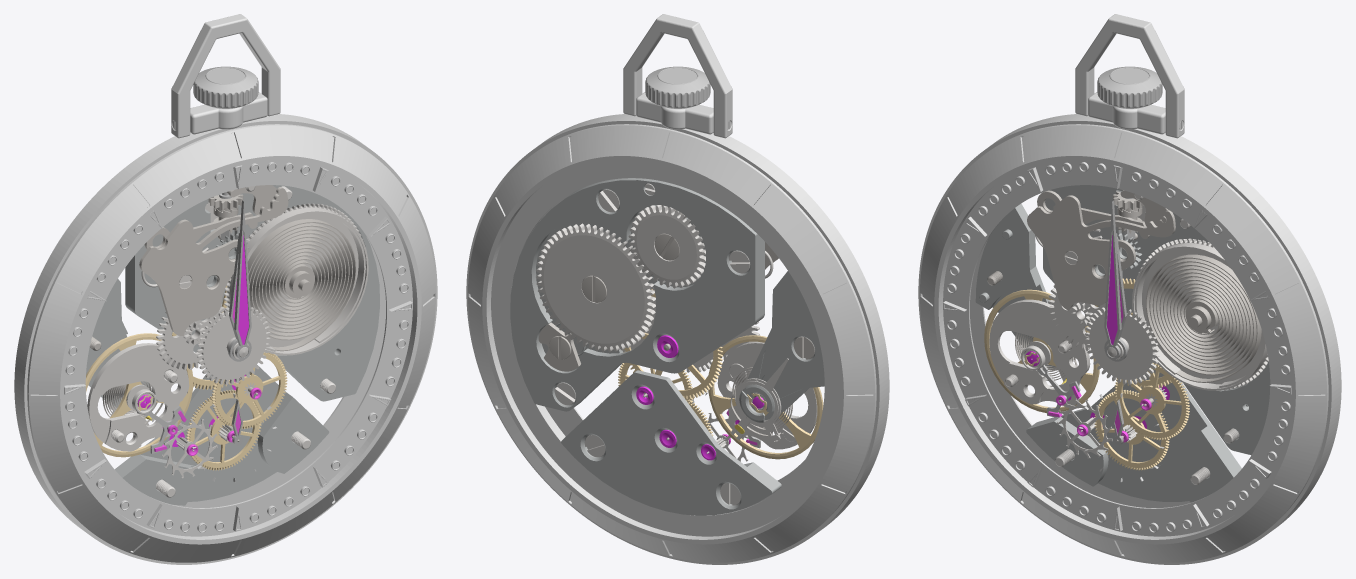
Rendered from ETA6497-1.glb.
3 views of the same model, side by side, from view 1: azimuth 30°, elevation 25°; view 2: azimuth 150°, elevation 25°; view 3: azimuth 330°, elevation 25° (orthographic).
Visible parts, largest first — view 1: CaseTopBody, CaseWatchFace, TrainWheelBridge, BarrelBridgeBody, BarrelMainSpringBody, CaseCenterRingBody, SettingLeverJumperBody, PalletBridgeBody, BarrelDrum_Gear_Body, CaseCrownClipRing, CaseWatchRearFace, HourWheel_Body (+15 smaller); view 2: CaseBottomBody, BarrelBridgeBody, CaseWatchRearFace, TrainWheelBridge, RatchetWheelBody, CaseCenterRingBody, BalancingBridge, CaseCrownClipRing, CrownWheelBody, PalletBridgeBody, WindingKnob, BalanceWheelBody (+8 smaller); view 3: CaseTopBody, CaseWatchFace, TrainWheelBridge, BarrelMainSpringBody, CaseCenterRingBody, BarrelBridgeBody, SettingLeverJumperBody, BarrelDrum_Gear_Body, PalletBridgeBody, BalancingBridge, CaseCrownClipRing, CaseWatchRearFace (+14 smaller).
Boxes of the visible parts, <box> form: CaseTopBody: <box>27,124,435,562</box>; CaseWatchFace: <box>64,160,412,536</box>; TrainWheelBridge: <box>115,365,329,505</box>; BarrelBridgeBody: <box>125,185,379,401</box>; BarrelMainSpringBody: <box>247,219,356,351</box>; CaseCenterRingBody: <box>14,114,437,564</box>; SettingLeverJumperBody: <box>139,187,288,335</box>; PalletBridgeBody: <box>87,343,189,451</box>; BarrelDrum_Gear_Body: <box>223,203,368,355</box>; CaseCrownClipRing: <box>171,14,280,138</box>; CaseWatchRearFace: <box>172,237,385,507</box>; HourWheel_Body: <box>197,307,271,385</box>; CaseBottomBody: <box>468,124,876,562</box>; BarrelBridgeBody: <box>510,178,764,411</box>; CaseWatchRearFace: <box>491,160,839,536</box>; TrainWheelBridge: <box>561,370,781,515</box>; RatchetWheelBody: <box>536,223,655,352</box>; CaseCenterRingBody: <box>466,114,889,564</box>; BalancingBridge: <box>747,271,824,420</box>; CaseCrownClipRing: <box>623,14,732,138</box>; CrownWheelBody: <box>628,205,705,288</box>; PalletBridgeBody: <box>717,341,817,449</box>; WindingKnob: <box>645,66,710,108</box>; BalanceWheelBody: <box>708,335,823,459</box>; CaseTopBody: <box>920,124,1328,562</box>; CaseWatchFace: <box>943,160,1291,536</box>; TrainWheelBridge: <box>1026,369,1241,502</box>; BarrelMainSpringBody: <box>1146,254,1261,382</box>; CaseCenterRingBody: <box>918,114,1341,564</box>; BarrelBridgeBody: <box>1043,185,1270,455</box>; SettingLeverJumperBody: <box>1027,195,1175,310</box>; BarrelDrum_Gear_Body: <box>1132,238,1268,390</box>; PalletBridgeBody: <box>989,299,1090,407</box>; BalancingBridge: <box>975,203,1055,368</box>; CaseCrownClipRing: <box>1075,14,1184,138</box>; CaseWatchRearFace: <box>970,238,1190,507</box>.
Bounding box in the file's own units: 4.8 × 5.94 × 0.6927.
